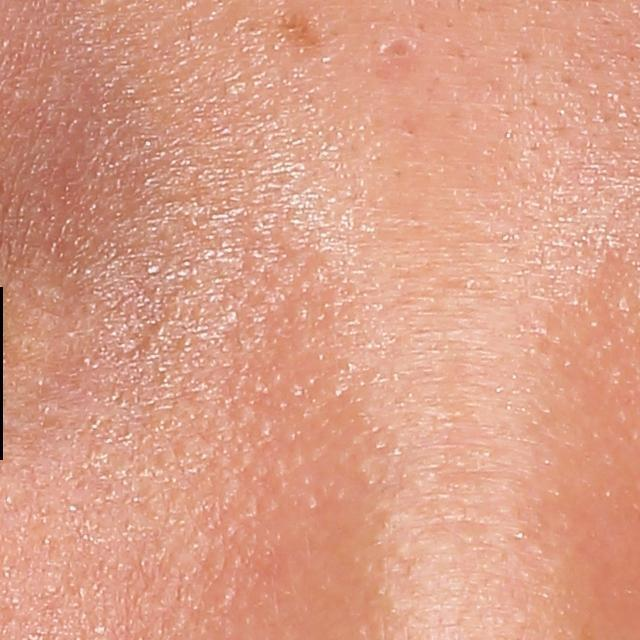melasma: (274, 6, 331, 59)
